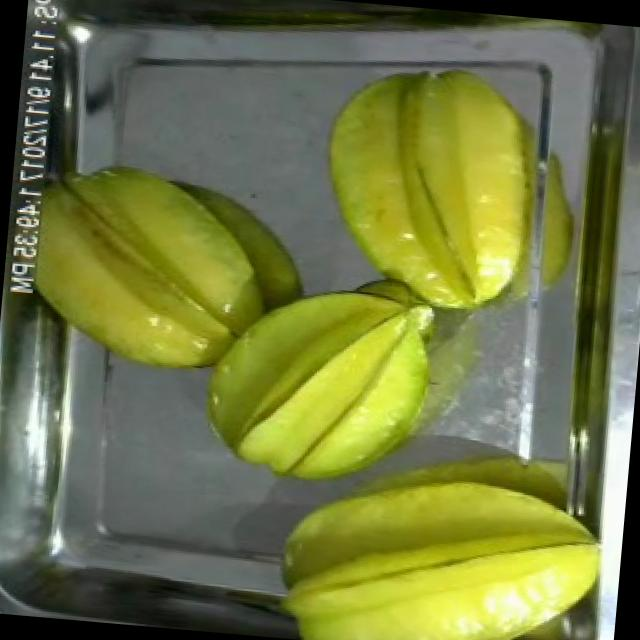fruit: (301, 47, 559, 329), (262, 449, 615, 640), (12, 146, 284, 392), (179, 263, 445, 504)
